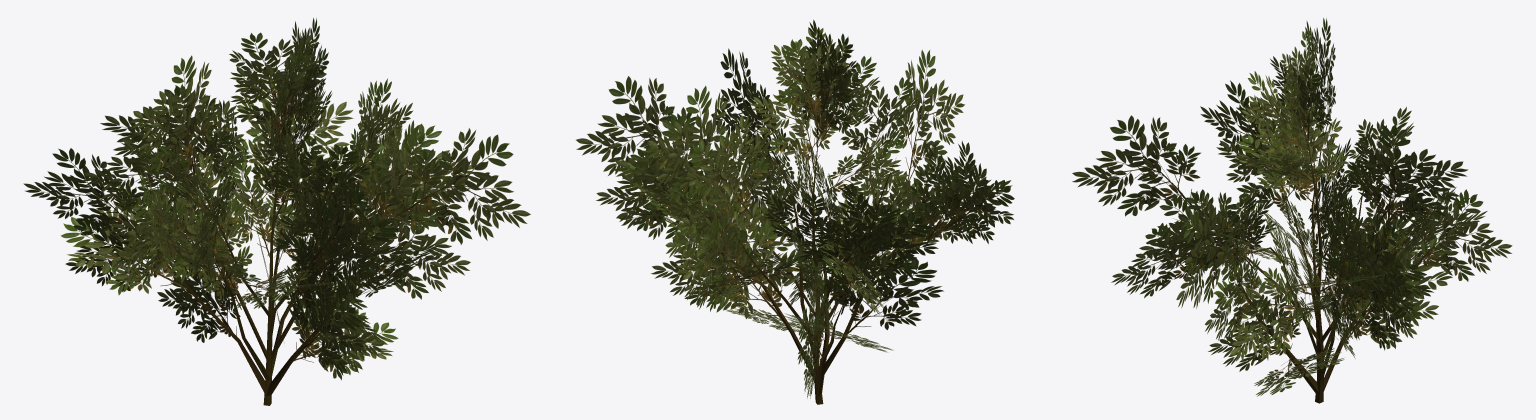
Rendered from bush2.glb.
The picture shows the model from 3 angles, left to right: view 1: azimuth 30°, elevation 25°; view 2: azimuth 150°, elevation 25°; view 3: azimuth 270°, elevation 25°; orthographic projection. The views are drawn at different scales.
Visible parts, largest first — view 1: Bush27_High; view 2: Bush27_High; view 3: Bush27_High.
Boxes of the visible parts, x1,y1,x2,y2 form: Bush27_High: (23,18,530,405); Bush27_High: (576,20,1014,404); Bush27_High: (1072,18,1512,403).
Size of the model in its own units: 3.04 by 2.46 by 2.81.
Materials: 1 (1 with a texture image).
